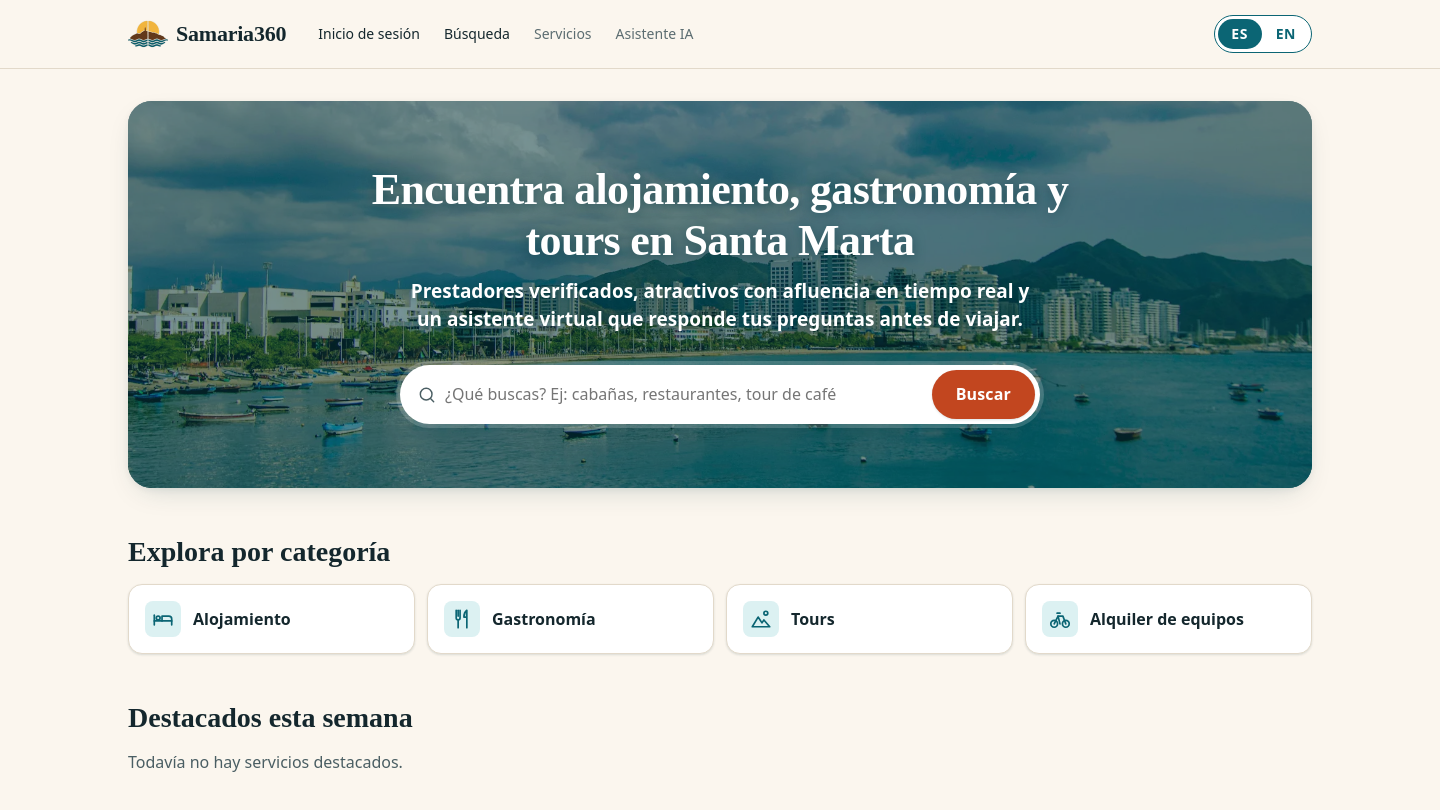
Scenario: Pie de página › muestra el aviso académico sobre las imágenes en español y en inglés
Click the button with aria-label "Inglés".
click(1286, 34)  # box [1264,19,1308,49]
(page scrolled)
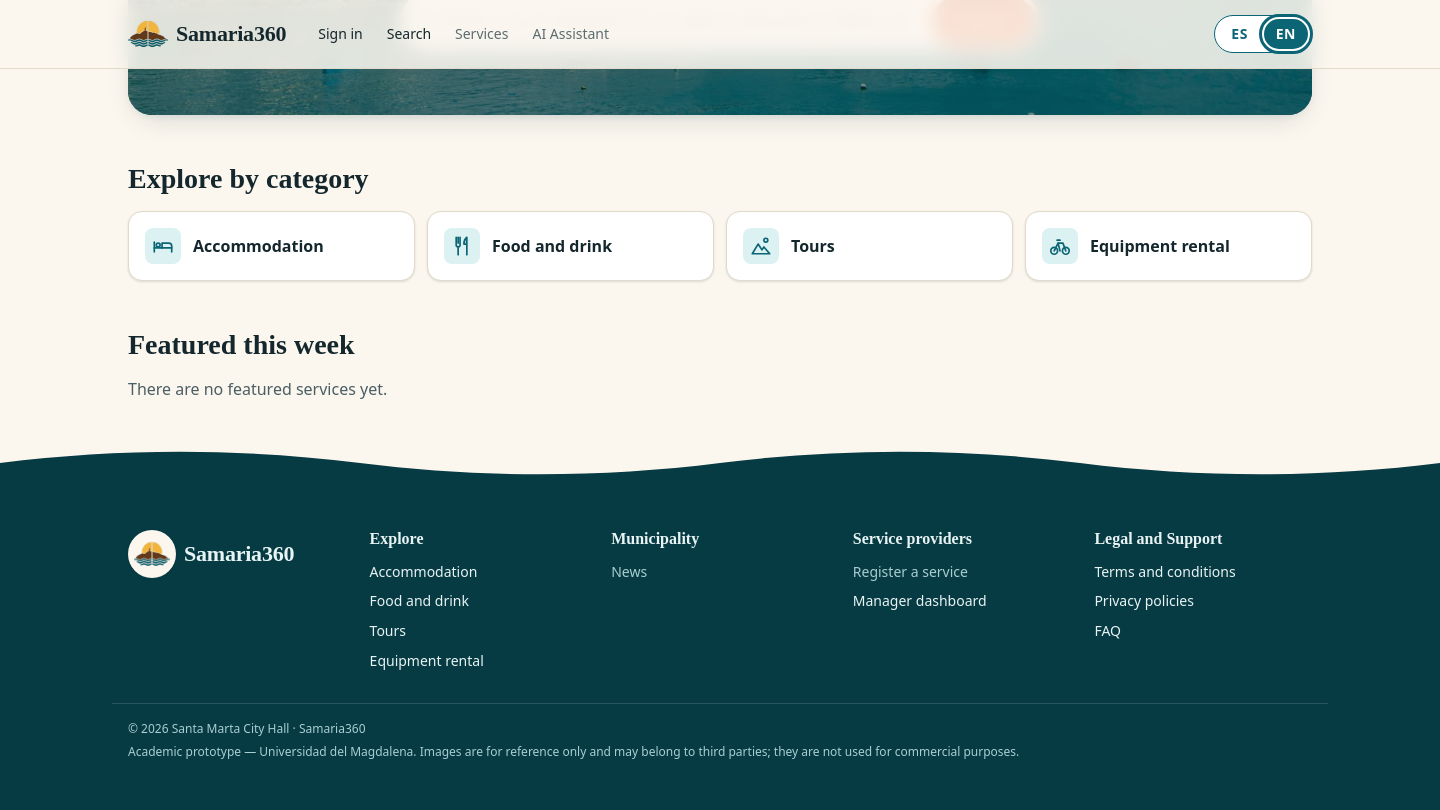
expect the text "Academic prototype — Universidad del Magdalena. Images are for reference only and may belong to third parties; they are " is shown: met, box [128,743,1019,760]
